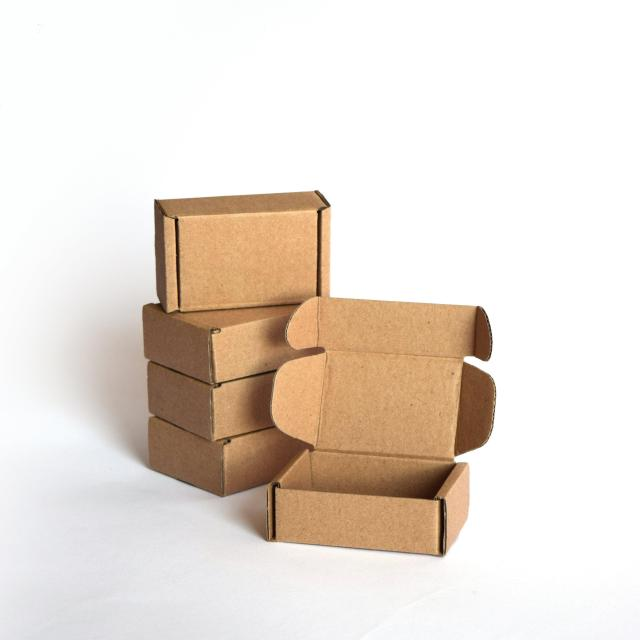Garbage: (267, 292, 511, 556)
Pathole: (138, 179, 344, 319)
